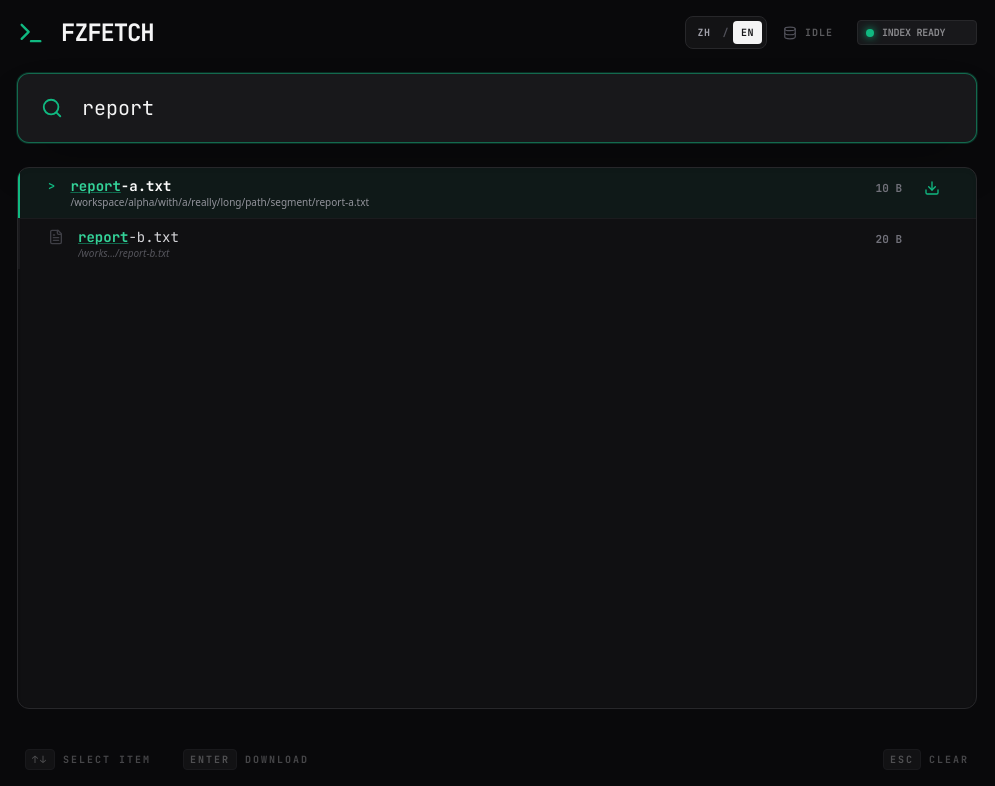
Test case: App › reuses the existing filename and path lines when a row is selected
This screenshot has width=995, height=786.
Click the element with test id "result-row-1" at [497, 244], box [18,218,976,269]
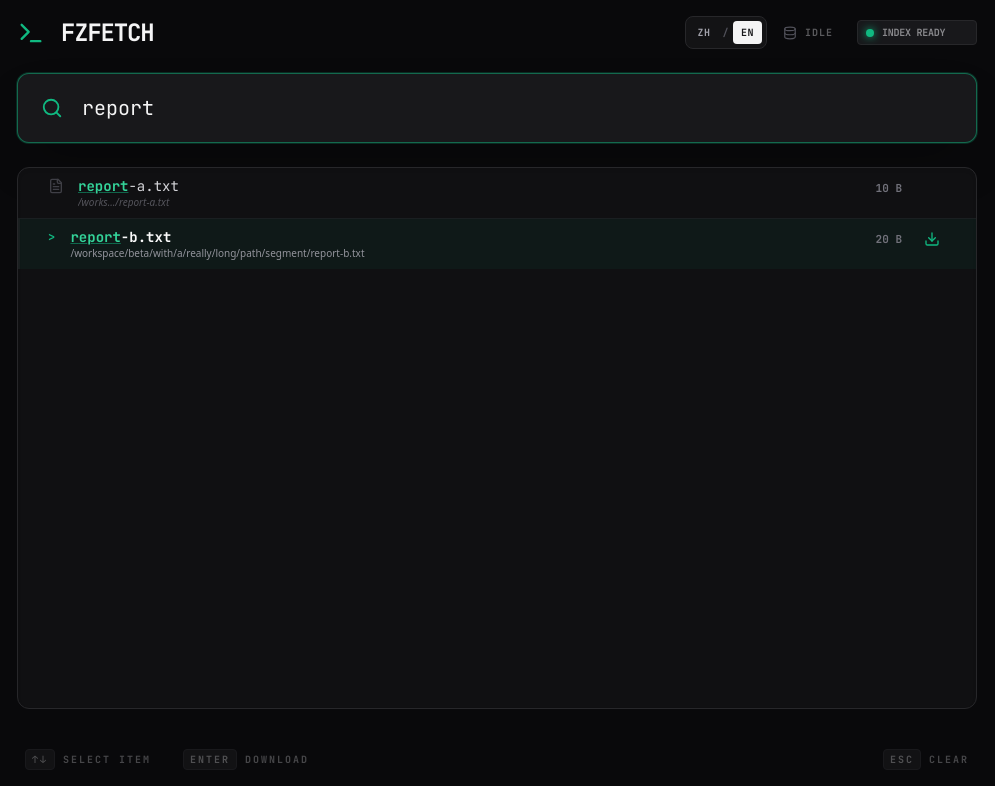
Check: the text with test id "result-path-0" shows "...", box [78,195,169,209]
Check: the text with test id "result-path-1" reads "/workspace/beta/with/a/really/long/path/segment/report-b.txt", box [70,246,364,260]
Check: the text "/workspace/alpha/with/a/really/long/path/segment/report-a.txt" is gone
